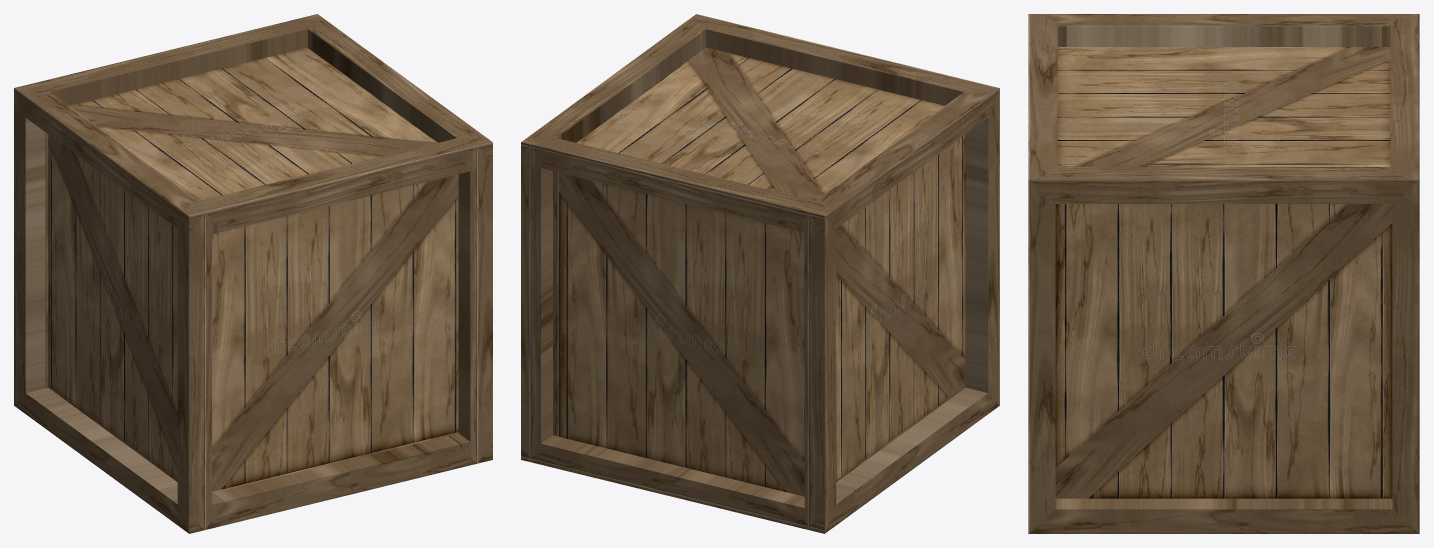
The model's file is caixa.fbx.
3 views of the same model, side by side, from view 1: azimuth 30°, elevation 25°; view 2: azimuth 150°, elevation 25°; view 3: azimuth 270°, elevation 25° (orthographic). The views are drawn at different scales.
Visible parts, largest first — view 1: pCube1; view 2: pCube1; view 3: pCube1.
Part boxes in pixels (x1,y1,x2,y2): pCube1: [14, 14, 492, 533]; pCube1: [521, 14, 999, 533]; pCube1: [1028, 14, 1419, 533].
Bounding box in the file's own units: 1 × 1 × 1.
1 material, 1 textured.
